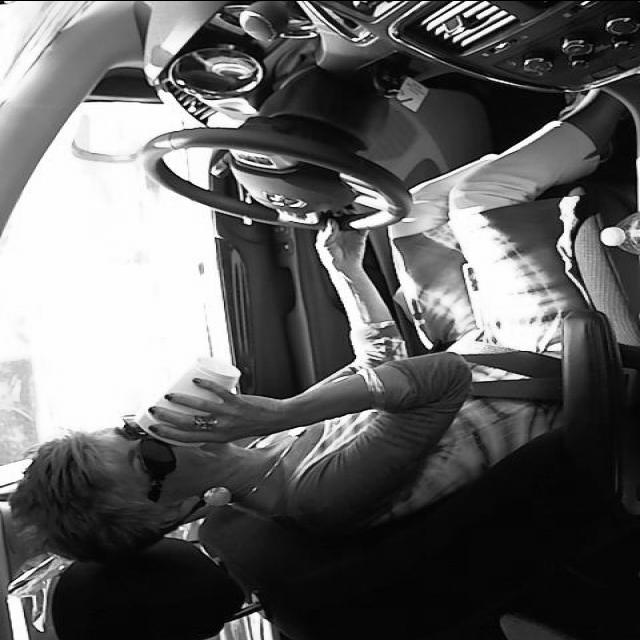drinking: (132, 354, 248, 446)
